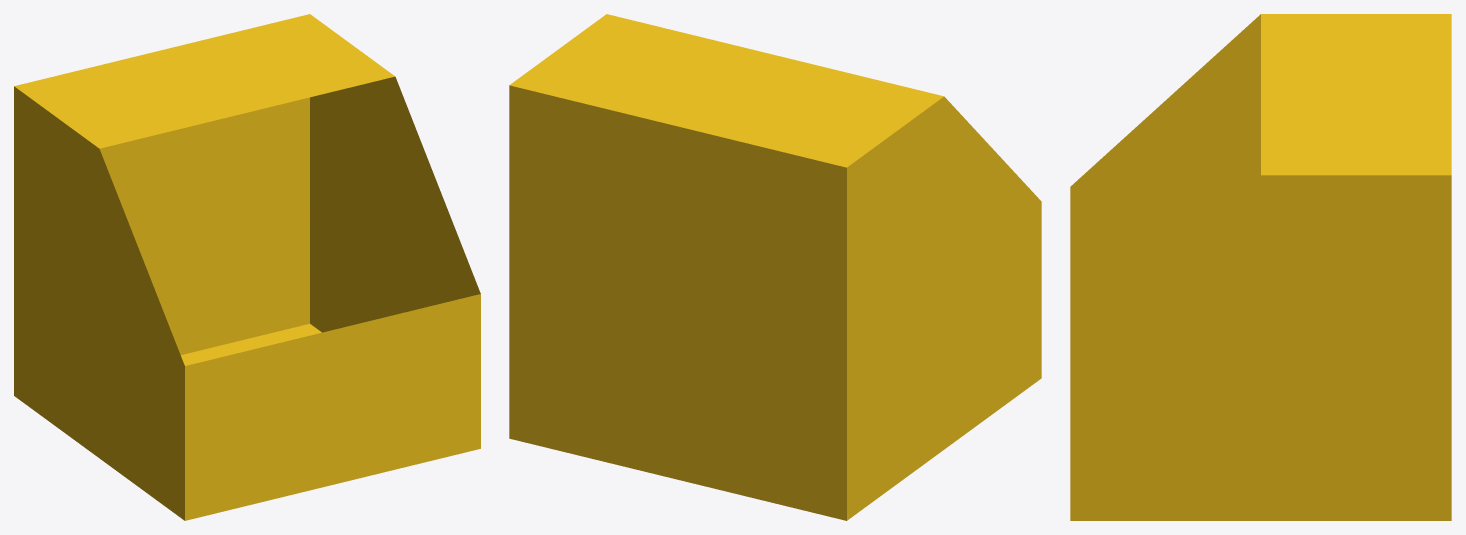
Rendered from r3c6_body_yellow.gltf.
The picture shows the model from 3 angles, left to right: view 1: azimuth 30°, elevation 25°; view 2: azimuth 150°, elevation 25°; view 3: azimuth 270°, elevation 25°; orthographic projection. The views are drawn at different scales.
Visible parts, largest first — view 1: r3c6_body_yellow; view 2: r3c6_body_yellow; view 3: r3c6_body_yellow.
Boxes of the visible parts, <box> form: r3c6_body_yellow: <box>14,14,480,520</box>; r3c6_body_yellow: <box>509,14,1041,520</box>; r3c6_body_yellow: <box>1070,14,1451,520</box>.
Size of the model in its own units: 2 by 2 by 2.
1 material, 1 textured.
